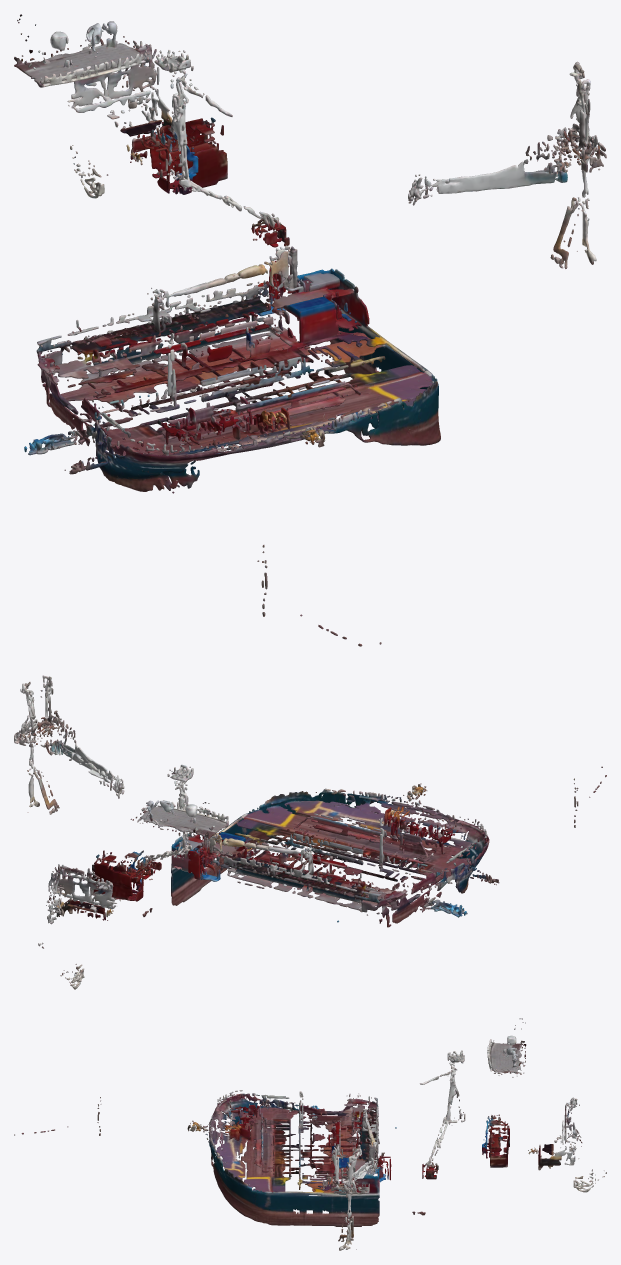
Rendered from lm+slat-mean_2026-05-06T114148.103.glb.
The picture shows the model from 3 angles, top to bottom: view 1: azimuth 30°, elevation 25°; view 2: azimuth 150°, elevation 25°; view 3: azimuth 270°, elevation 25°; orthographic projection. The views are drawn at different scales.
Visible parts, largest first — view 1: world; view 2: world; view 3: world.
Part boxes in pixels (x1,y1,x2,y2): world: (14, 14, 606, 646); world: (14, 675, 606, 989); world: (14, 1018, 606, 1250).
Bounding box in the file's own units: 0.5602 × 0.2614 × 0.8715.
1 material, 1 textured.
